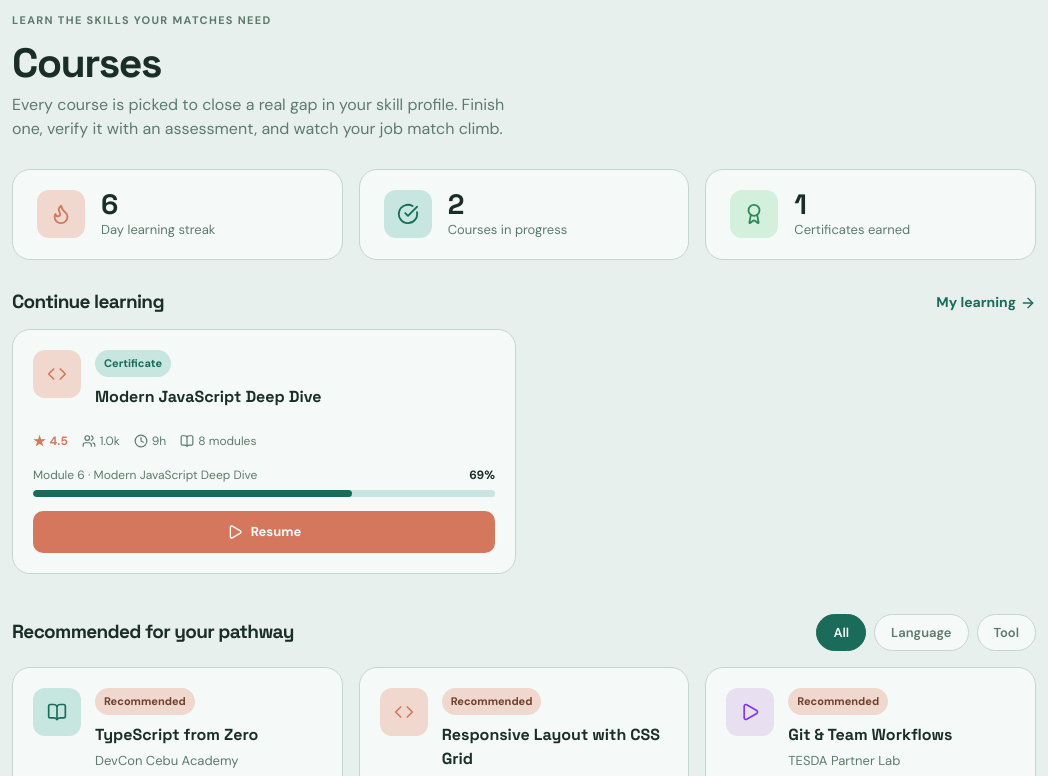
Test: CoursesPage › filters courses by category
This screenshot has width=1048, height=776.
Expected: the heading "Recommended for your pathway" is shown, [12,622,294,643]
Click the button "Language": (921, 632) [874,614,968,651]
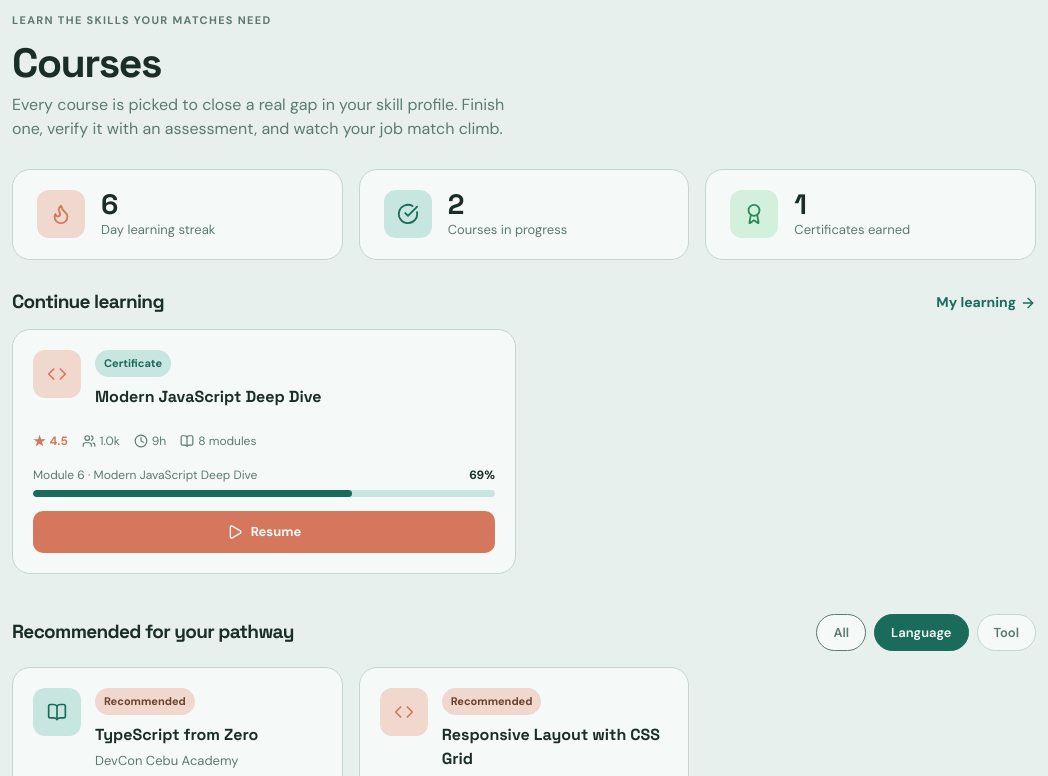
Expected: the text "TypeScript from Zero" is shown, [95,724,258,745]
Expected: the text "Git & Team Workflows" is gone
